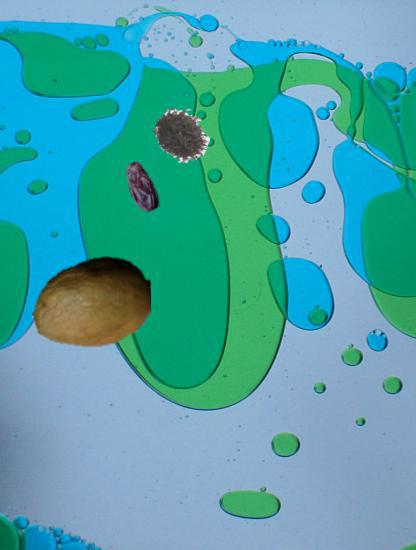Dates: (115, 161, 168, 214)
Papaya: (32, 242, 152, 362)
Rambutan: (154, 107, 210, 163)
